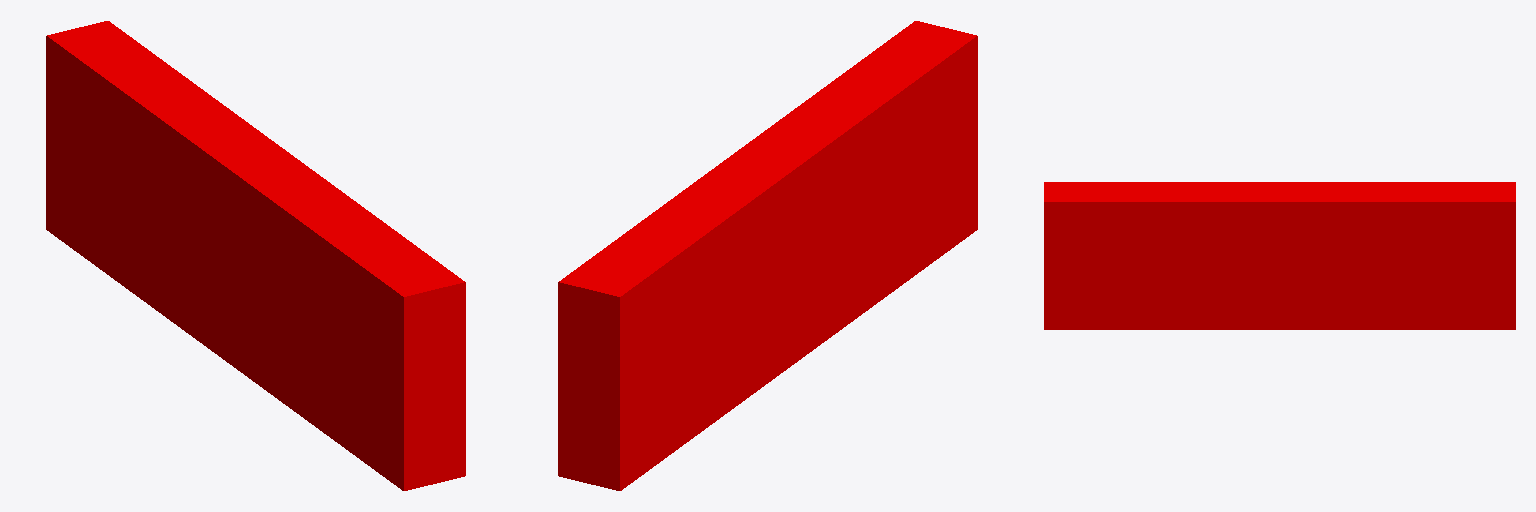
URDF robot description (ball):
<?xml version="0.0" ?>
<robot name="ball">
    <link name="wall">
        <contact>
            <lateral_friction value="1"/>
        </contact>

        <inertial>
            <origin xyz="0 0 0" rpy="0 0 0"/>
            <mass value="0.0"/>
            <inertia ixx="0"  ixy="0"  ixz="0" iyy="0" iyz="0" izz="0" />
        </inertial>

        <visual>
            <origin xyz="0 0 0" rpy="0 0 0" />
            <geometry>
                <box size="0.1 1.0 0.3" />
            </geometry>
            <material name="Red">
                <color rgba="1.0 0.0 0.0 1.0"/>
            </material>
        </visual>

        <collision>
            <origin xyz="0 0 0" rpy="0 0 0"/>
            <geometry>
                <box size="0.1 1.0 0.3" />
            </geometry>
        </collision>
    </link>
</robot>

--- Render facts (derived) ---
Views: 3 orthographic renders of the robot side by side, from view 1: azimuth 30°, elevation 25°; view 2: azimuth 150°, elevation 25°; view 3: azimuth 270°, elevation 25°.
Robot: ball — 1 links, 0 joints (none); root link wall; default pose: every joint at zero.
Links seen in each view (by area): view 1: wall; view 2: wall; view 3: wall.
Link boxes in pixels (left/top/right/bottom): wall: left=46, top=21, right=465, bottom=490; wall: left=558, top=21, right=977, bottom=490; wall: left=1044, top=182, right=1515, bottom=329.
Bounding box of the posed robot: 0.1 × 1 × 0.3 m (x, y, z).
Geometry: primitives only (box / cylinder / sphere), no mesh files.